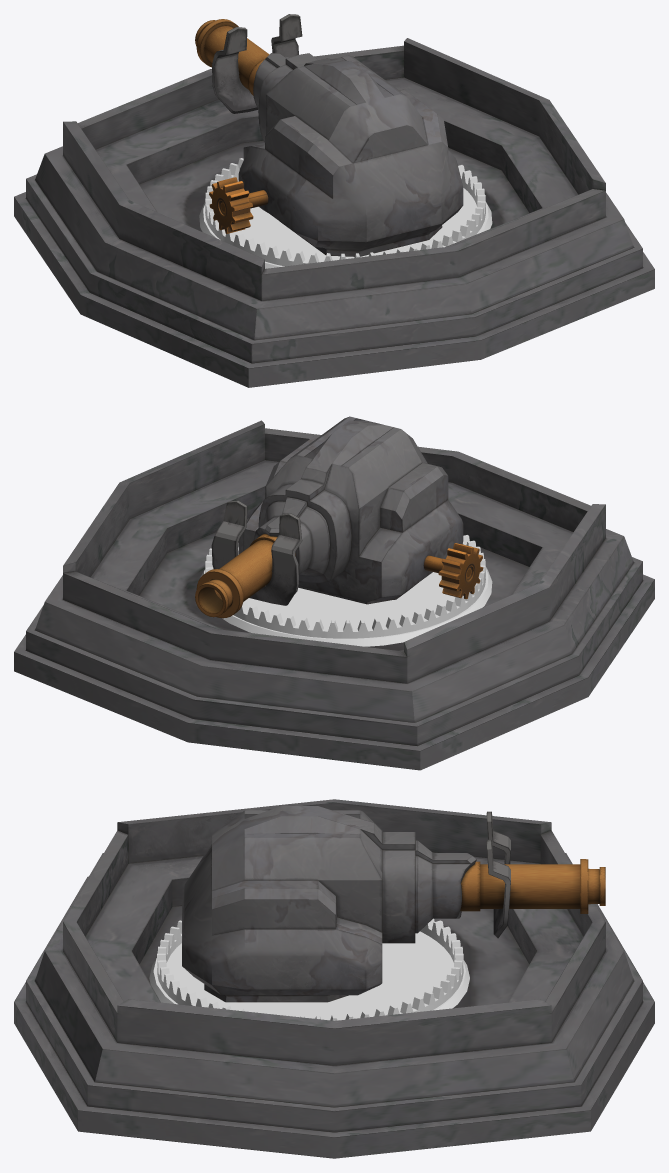
File: tower-export2 uvblend.fbx
The picture shows the model from 3 angles, top to bottom: view 1: azimuth 30°, elevation 25°; view 2: azimuth 150°, elevation 25°; view 3: azimuth 270°, elevation 25°; orthographic projection. The views are drawn at different scales.
Parts seen in each view (by area): view 1: Działo; view 2: Działo; view 3: Działo.
Boxes of the visible parts, x1,y1,x2,y2 form: Działo: [14, 14, 654, 387]; Działo: [14, 416, 654, 770]; Działo: [14, 799, 654, 1158].
Bounding box in the file's own units: 290 × 106 × 290.
Materials: 6 (5 with a texture image).
